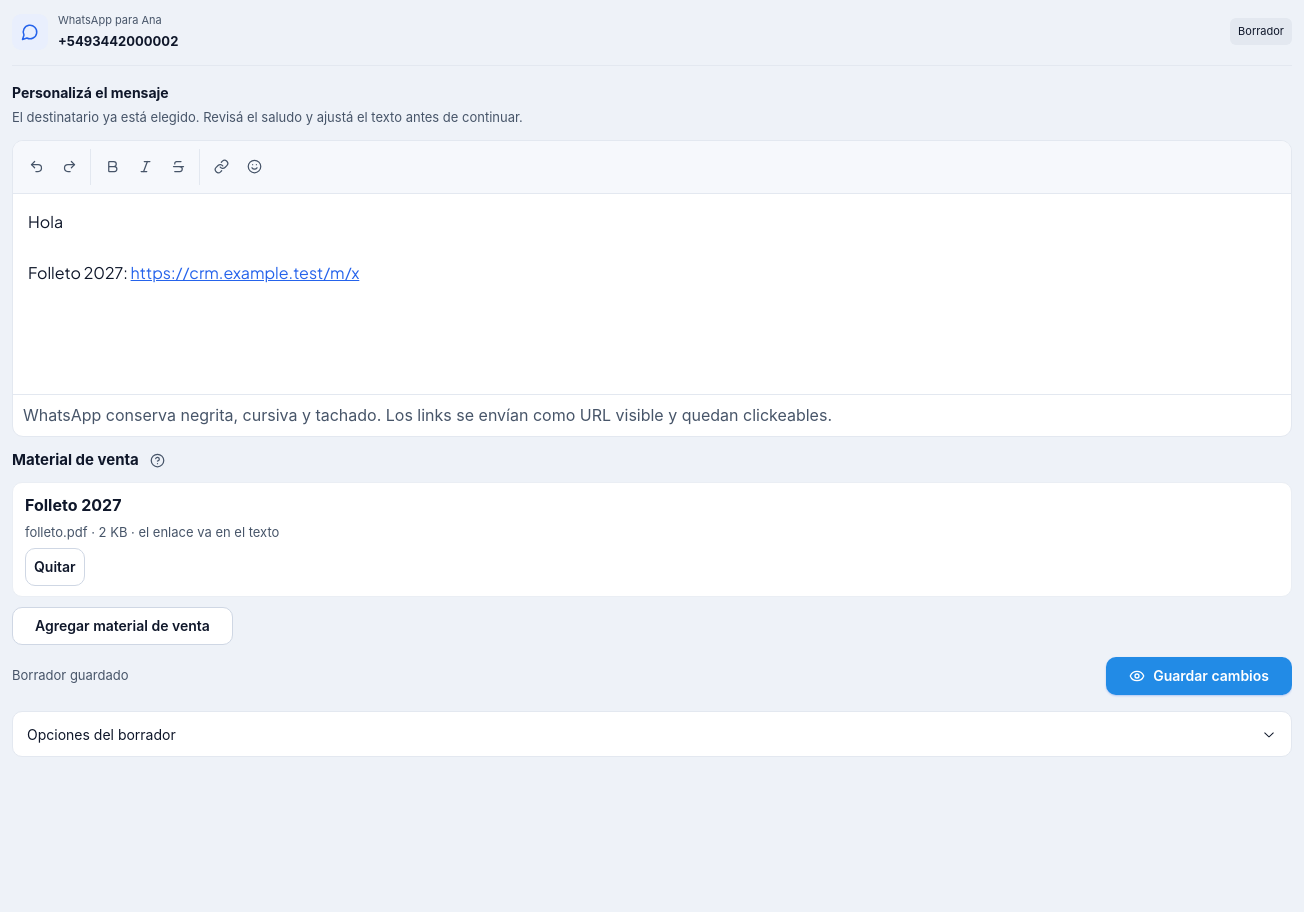
Test case: MessageComposer sales material (spec 89 §8.2) › treats a stale revision on a material action like a concurrent edit (regression: the stale draft stayed editable)
Click the button "Quitar" at (55, 567), box [25, 548, 85, 586]
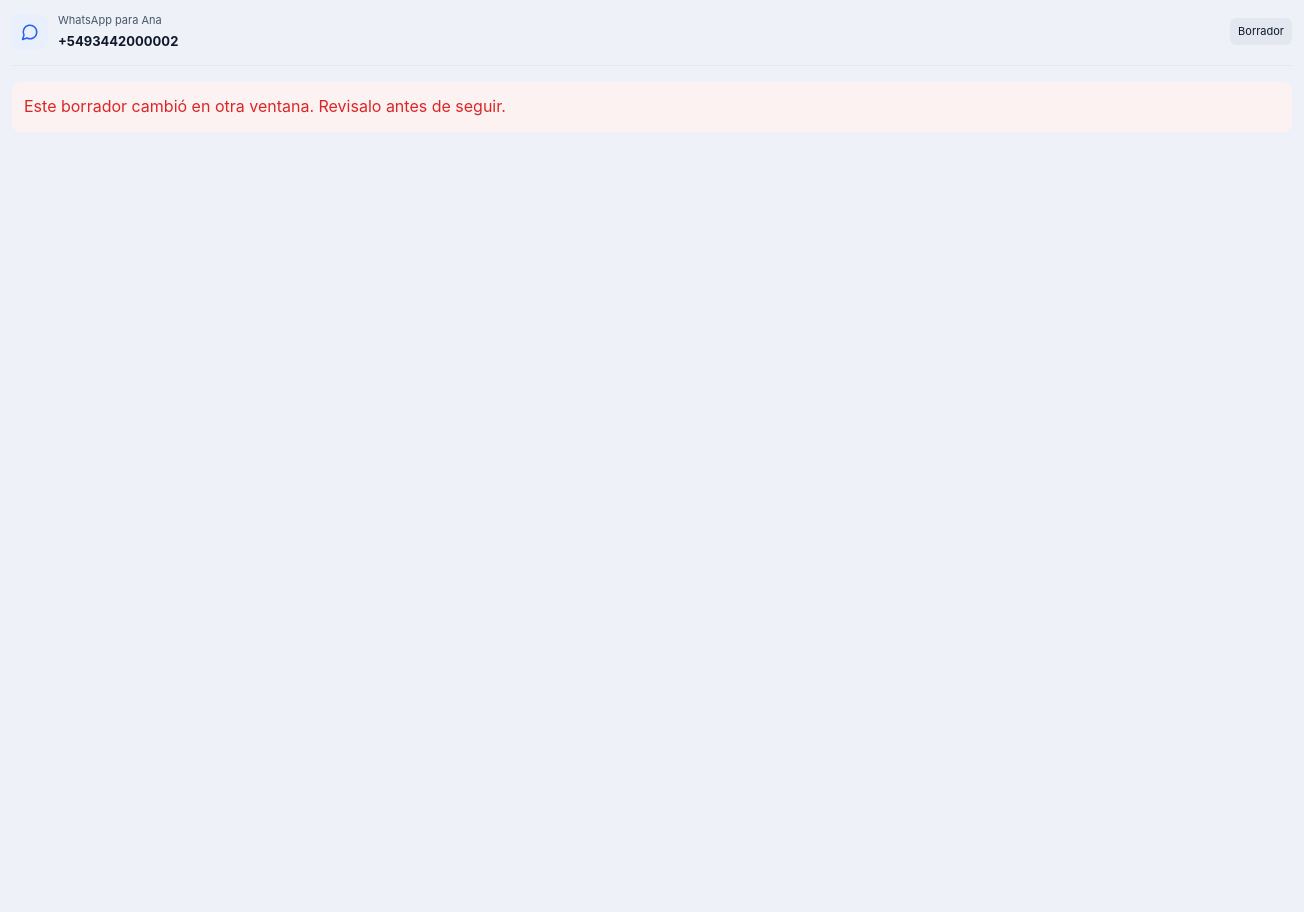
Now the text "Este borrador cambió en otra ventana. Revisalo antes de seguir." is shown, box [12, 82, 1292, 132]
Now the heading "Personalizá el mensaje" is gone
